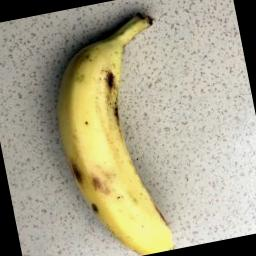Banana Ripe: (20, 3, 205, 256)
